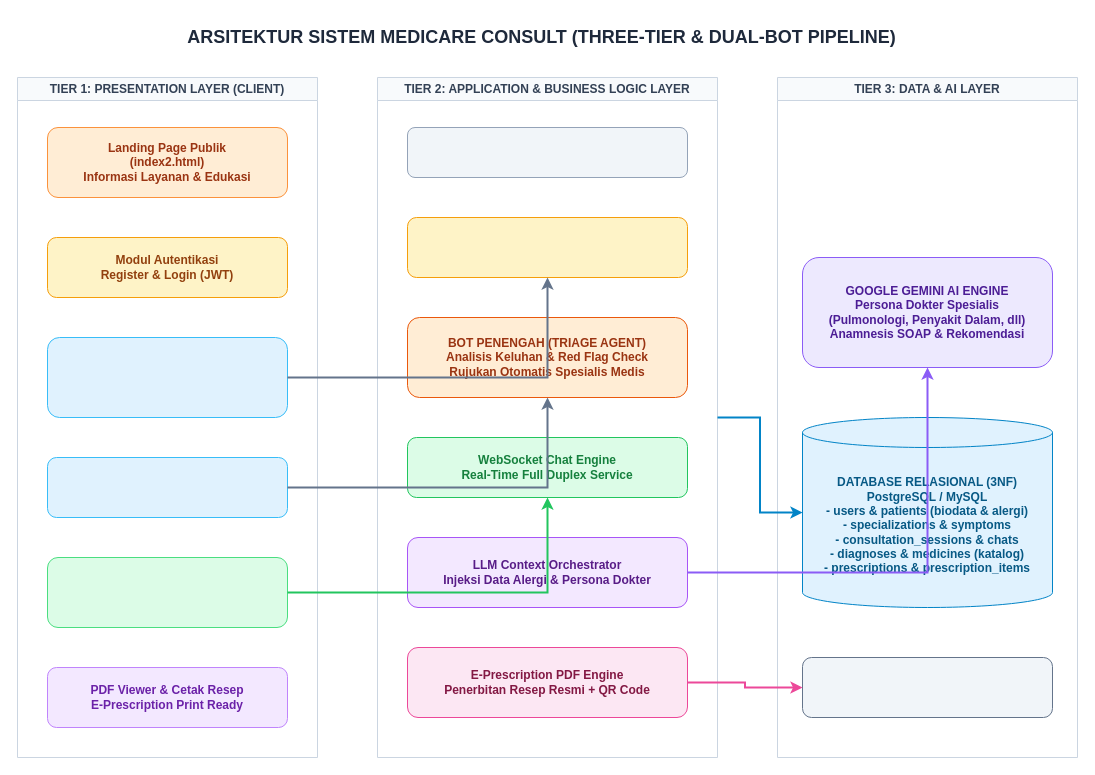
Some shapes in this 1095 by 775 pixel diagram are drawn without their labels. Each missing label, with the centre of its shape:
API Gateway & Reverse Proxy Route Handler & CORS Guard: pixel 547 152
Auth & Profile Gatekeeper Service Verifikasi NIK, Alergi, Usia, BB/TB: pixel 547 247
File Storage: E-Resep PDF /storage/prescriptions/RX-*.pdf: pixel 927 687
Pemilih Gejala Interaktif Umum vs Organ Dalam: pixel 167 487
Ruang Chat Real-time WebSocket Client: pixel 167 592
Web App Portal (CRM) Dasbor Rekam Medis Pasien [Gatekeeper Check]: pixel 167 377
